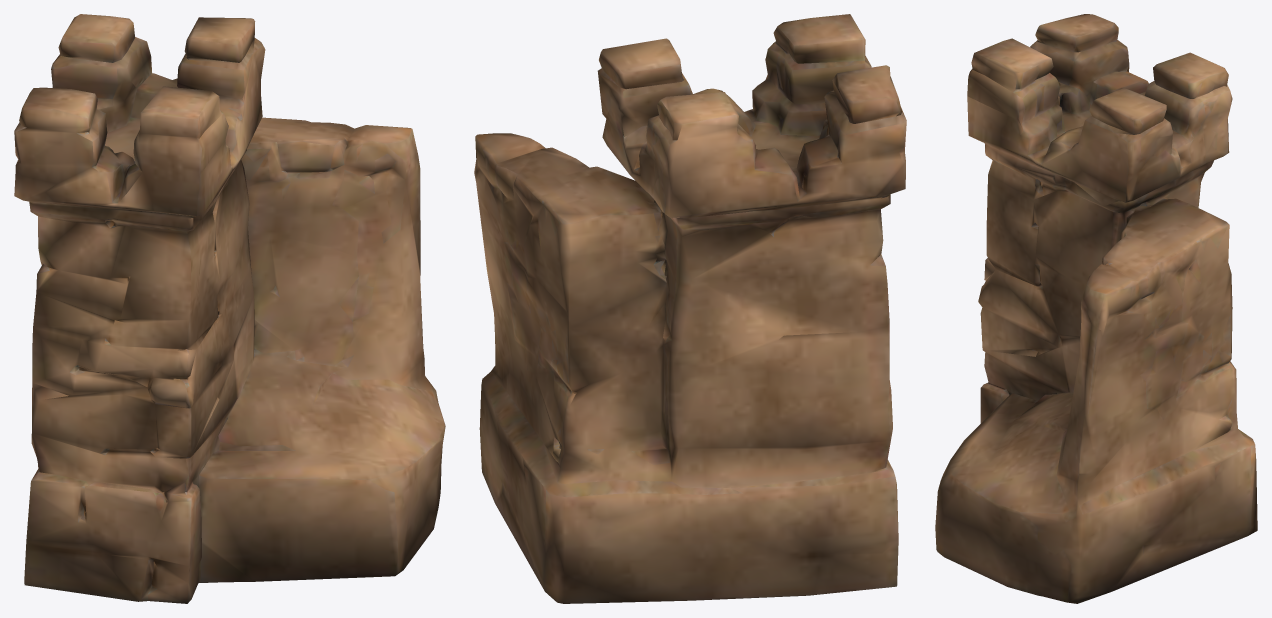
Rendered from chipped-sandstone-battlement-wall-v001.glb.
The picture shows the model from 3 angles, left to right: view 1: azimuth 30°, elevation 25°; view 2: azimuth 150°, elevation 25°; view 3: azimuth 270°, elevation 25°; orthographic projection. The views are drawn at different scales.
Parts seen in each view (by area): view 1: chipped-sandstone-battlement-wall; view 2: chipped-sandstone-battlement-wall; view 3: chipped-sandstone-battlement-wall.
Part boxes in pixels (left/top/right/bottom): chipped-sandstone-battlement-wall: left=14, top=14, right=445, bottom=603; chipped-sandstone-battlement-wall: left=474, top=14, right=906, bottom=603; chipped-sandstone-battlement-wall: left=935, top=14, right=1257, bottom=603.
Size of the model in its own units: 2.02 by 2.24 by 1.53.
Materials: 1 (1 with a texture image).
